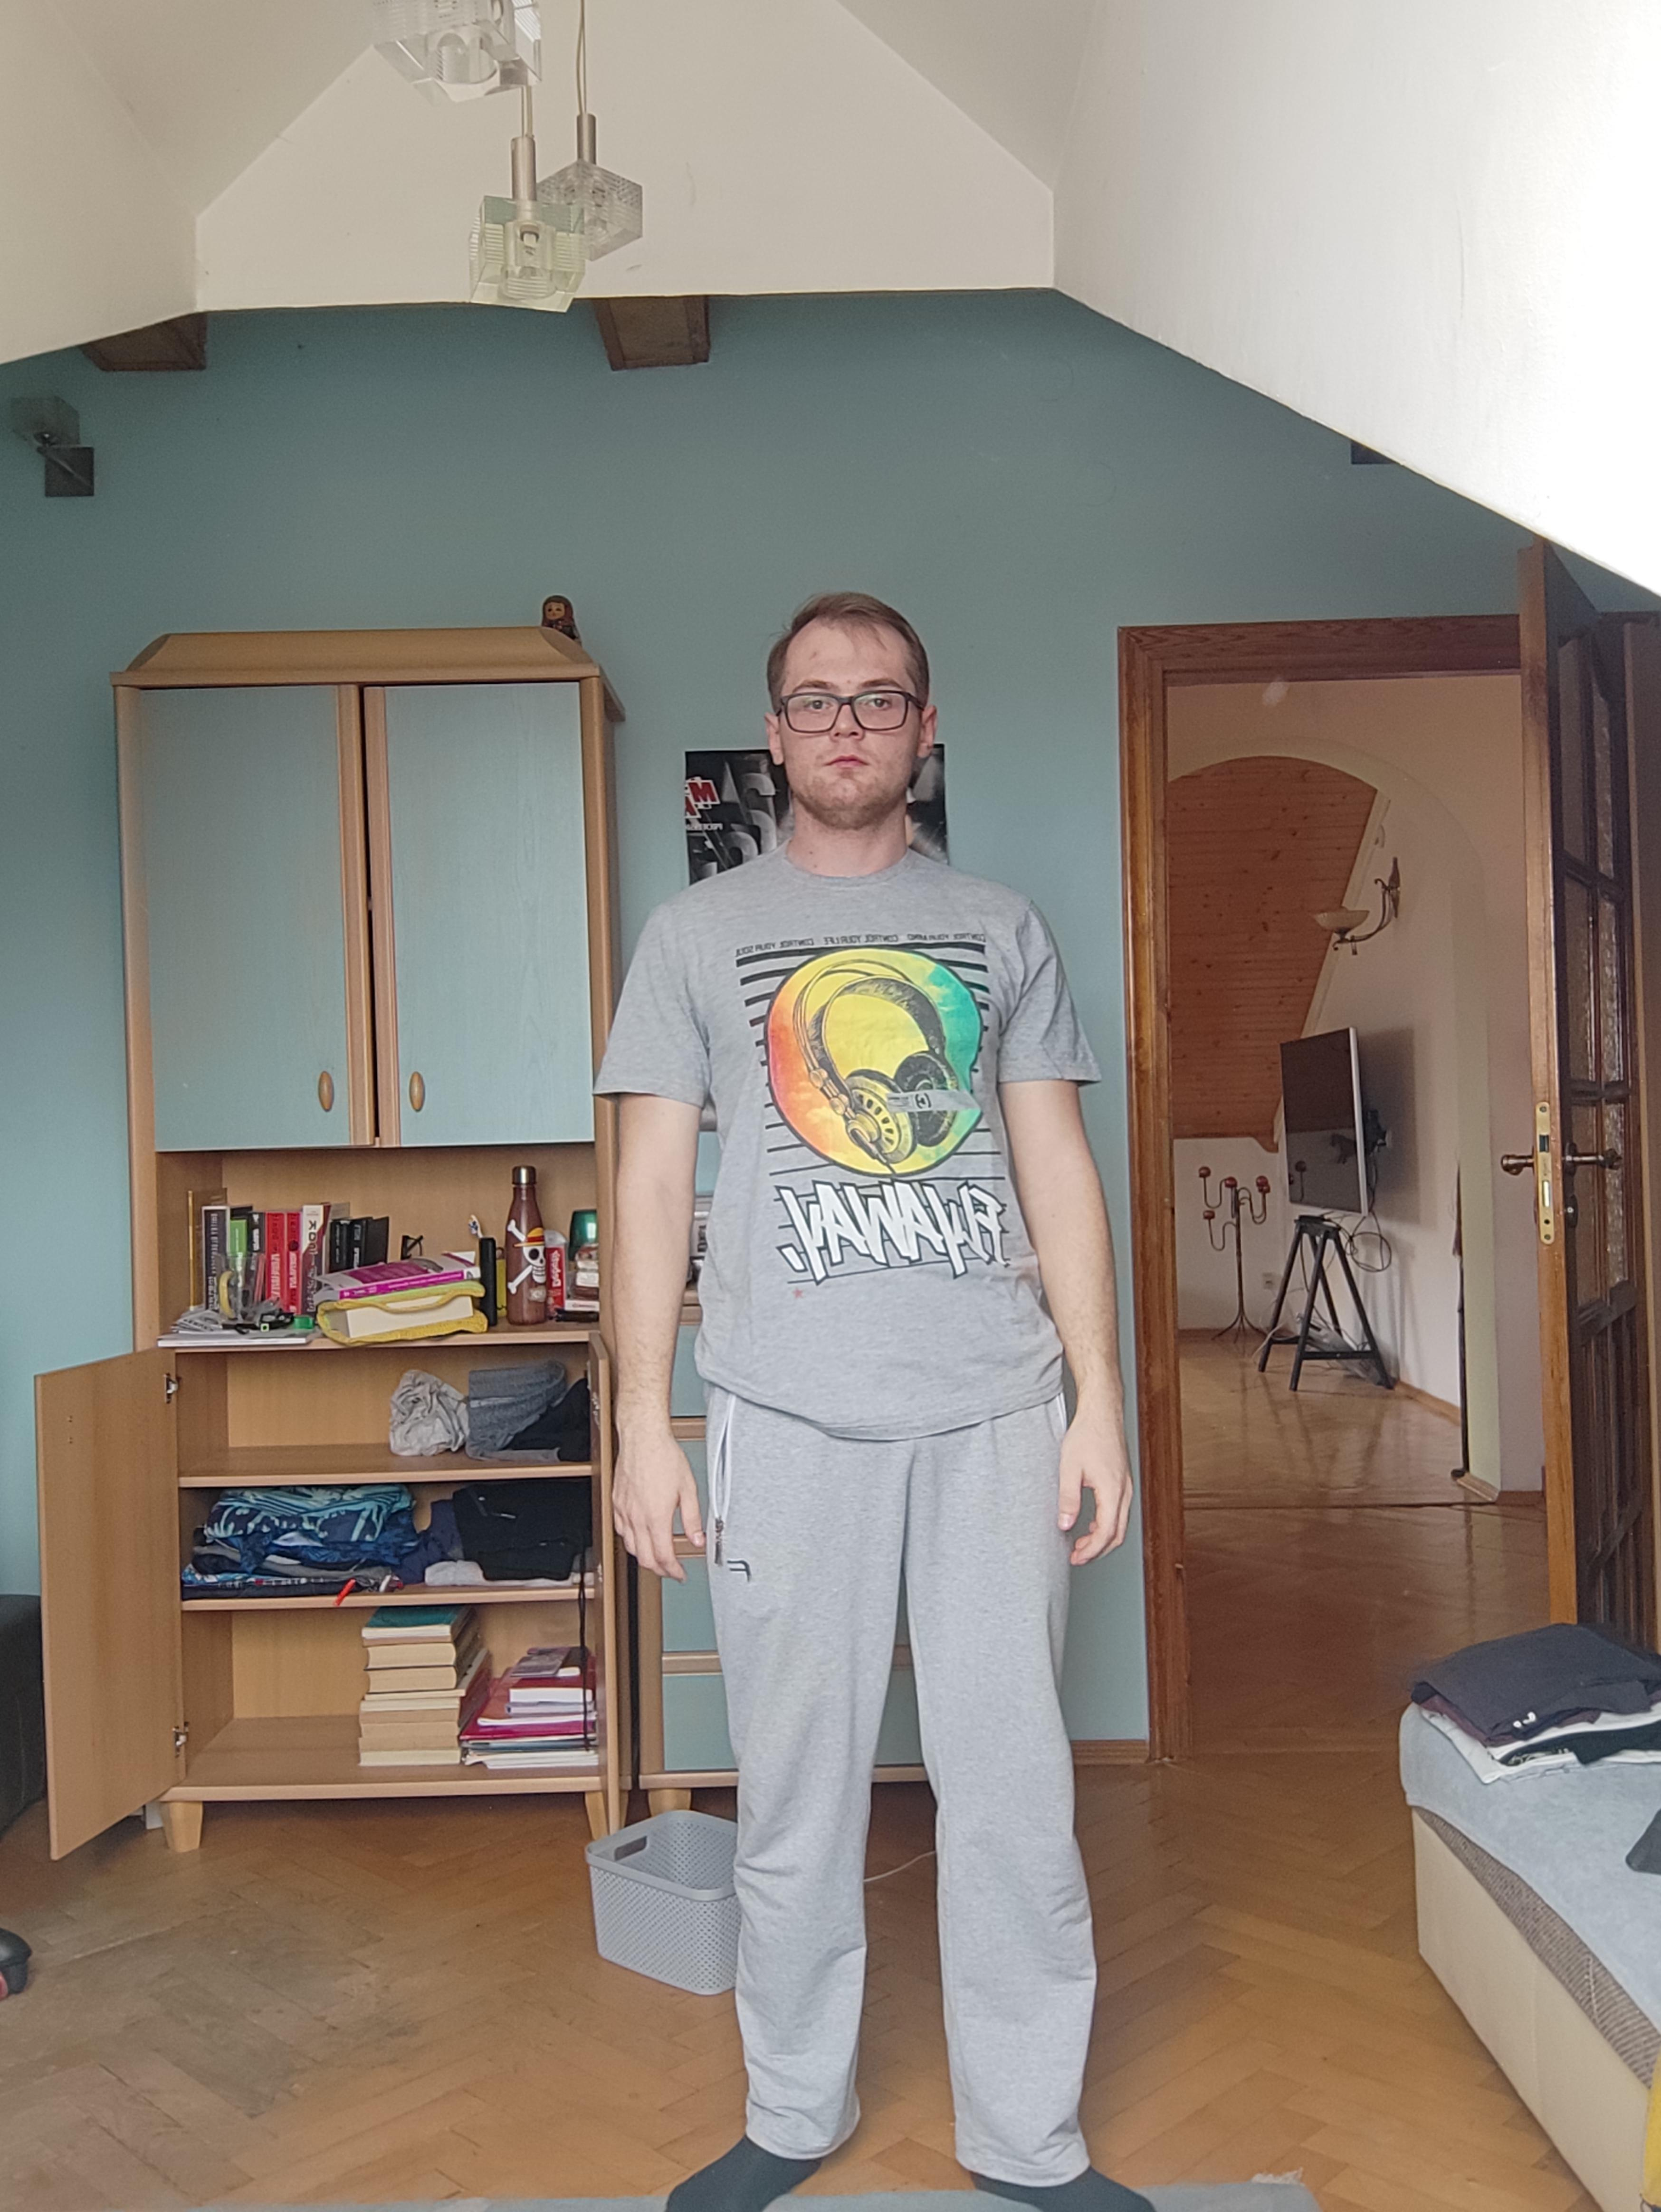Tshirt: (584, 844, 1103, 1441)
pants: (705, 1343, 1097, 2188)
